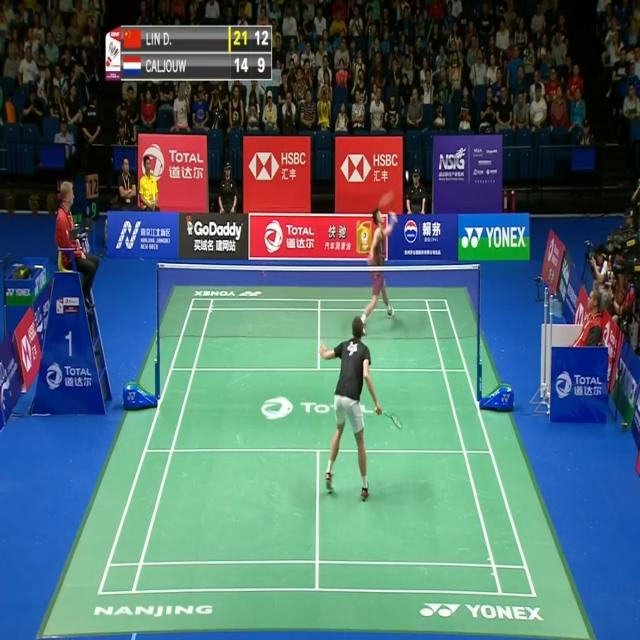Player1: (316, 302, 409, 516)
Player2: (357, 192, 403, 339)
